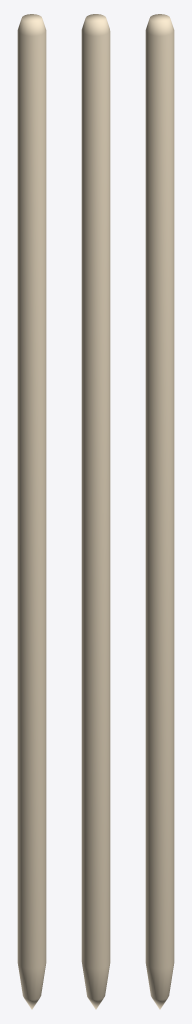
File: Stick.fbx
The picture shows the model from 3 angles, left to right: view 1: azimuth 90°, elevation 25°; view 2: azimuth 150°, elevation 25°; view 3: azimuth 270°, elevation 25°; orthographic projection.
Visible parts, largest first — view 1: Stick; view 2: Stick; view 3: Stick.
Boxes of the visible parts, box(x1,y1,x2,y2) form: Stick: box(17, 14, 46, 1009); Stick: box(81, 14, 110, 1009); Stick: box(145, 14, 174, 1009).
Bounding box in the file's own units: 0.011 × 0.42 × 0.011.
